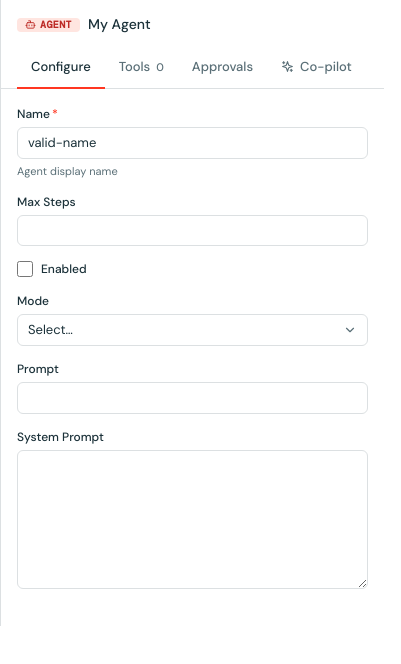
Test case: ConfigPanel › shows a validation error when an invalid value is entered for a field
# Clear the name field — this violates minLength: 1
Clear the field labelled "Name*" at (192, 143), box [17, 126, 368, 159]
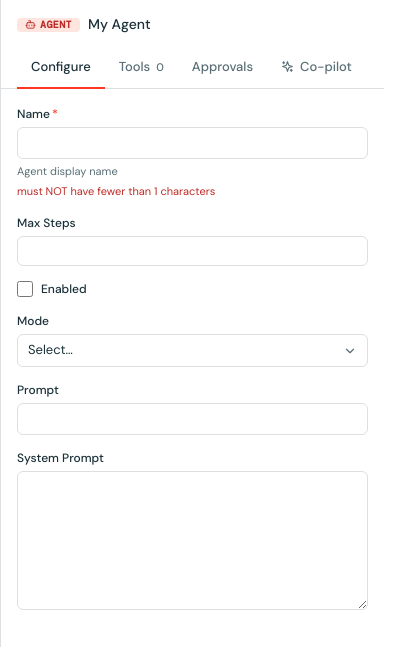
Check: the list item "must NOT have fewer than 1 characters" is shown, box [17, 184, 215, 198]
